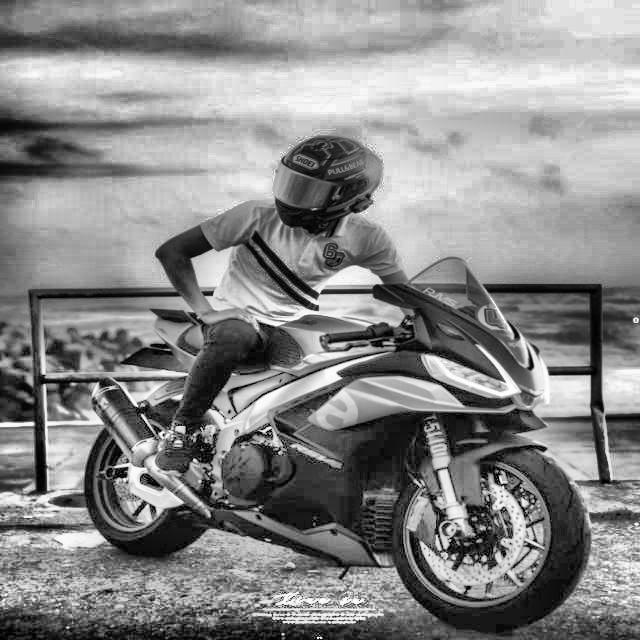Helmet: (268, 132, 385, 232)
